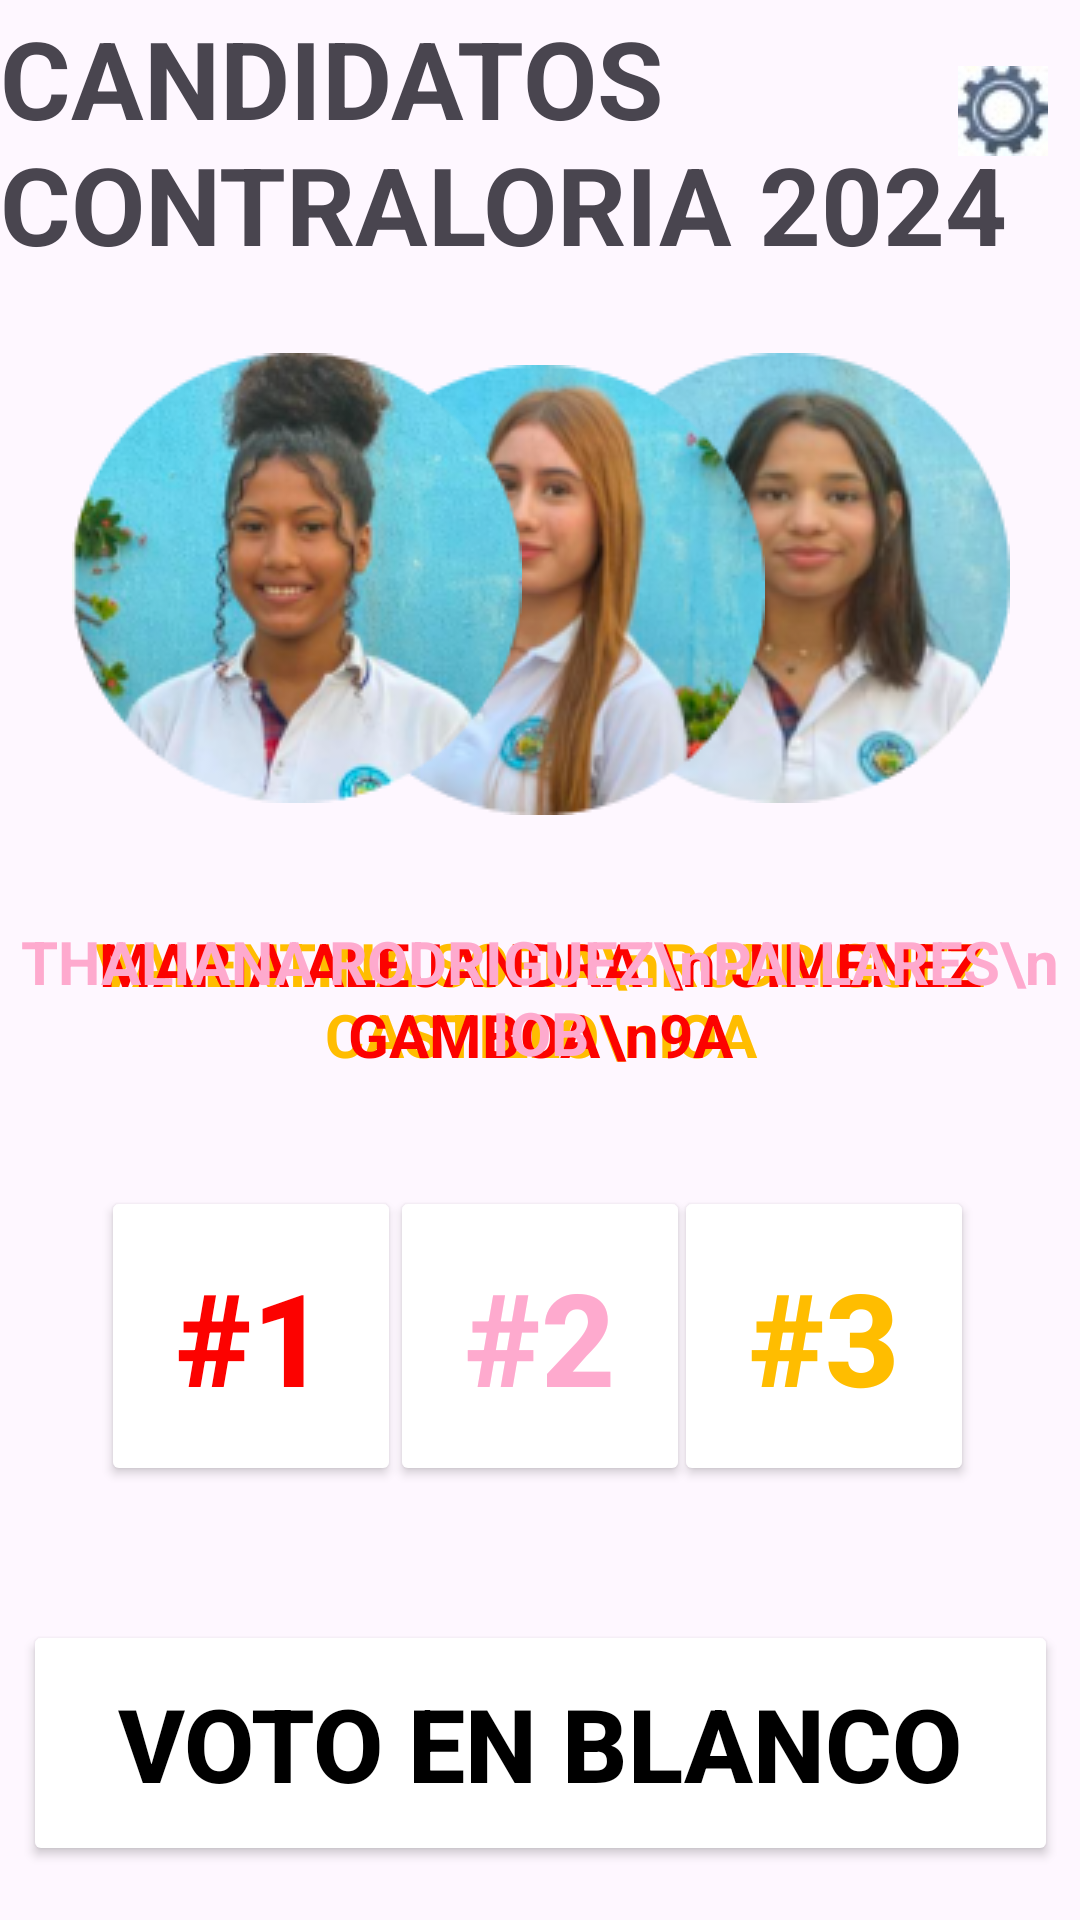

Where to tap for icons on this 1080px x 1920px app screen, as (x,y):
confi personalizado: (1003,111)
